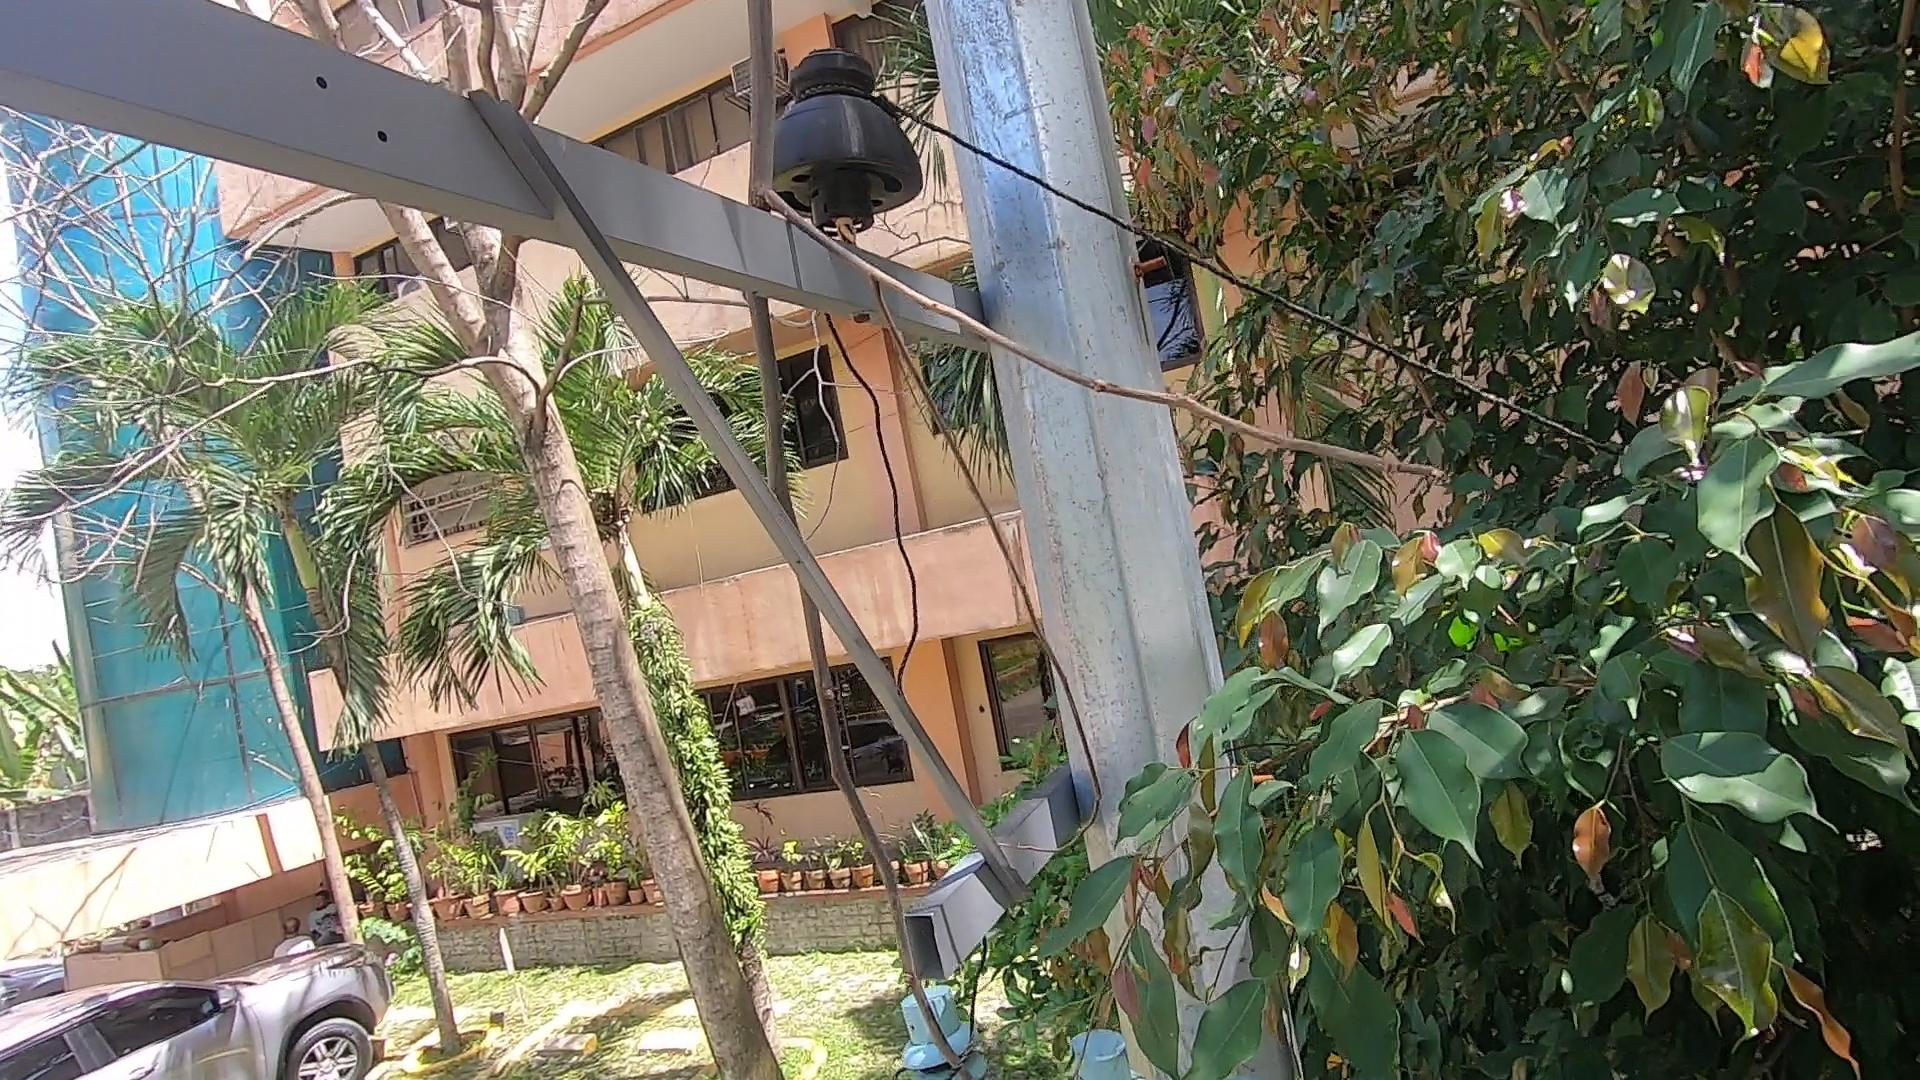branch with leaves: (1031, 804, 1353, 1080)
tree branch: (667, 3, 1451, 1064)
